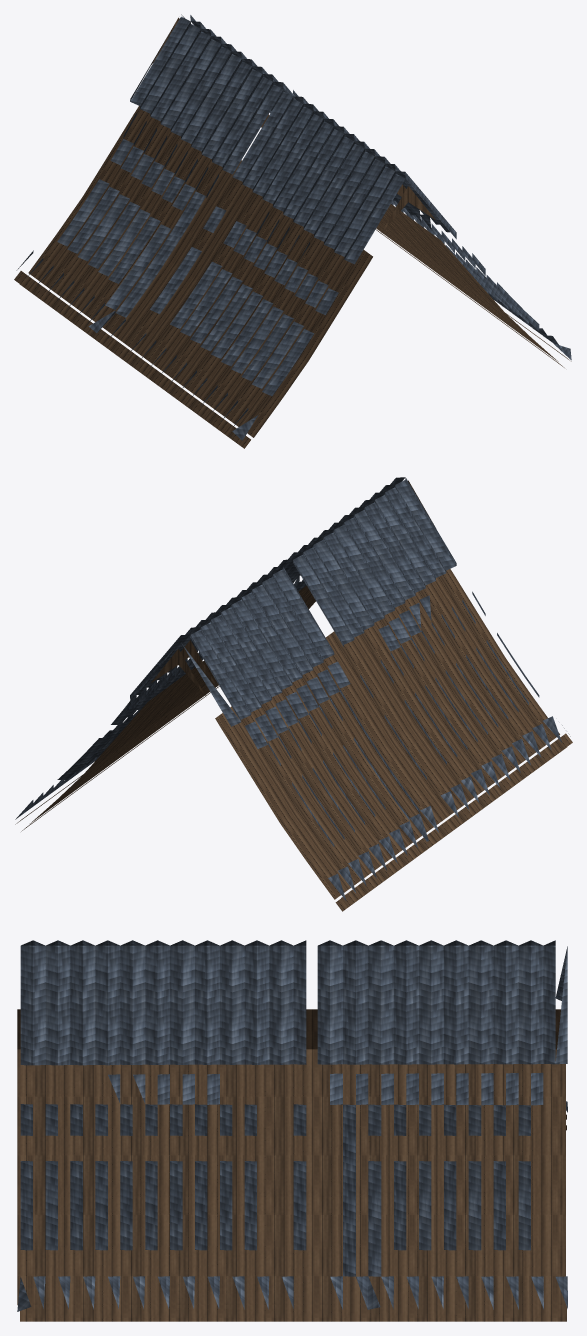
The model's file is Roof_Slate_8x10_LOD1.gltf.
3 views of the same model, one above another, from view 1: azimuth 30°, elevation 25°; view 2: azimuth 150°, elevation 25°; view 3: azimuth 270°, elevation 25° (orthographic). The views are drawn at different scales.
Visible parts, largest first — view 1: Roof_Slate_8x10_LOD1; view 2: Roof_Slate_8x10_LOD1; view 3: Roof_Slate_8x10_LOD1.
Part boxes in pixels (x1,y1,x2,y2): Roof_Slate_8x10_LOD1: [14, 14, 571, 448]; Roof_Slate_8x10_LOD1: [15, 477, 572, 911]; Roof_Slate_8x10_LOD1: [17, 940, 567, 1321].
Size of the model in its own units: 9.95 by 6.54 by 11.71.
Materials: 2 (2 with a texture image).
